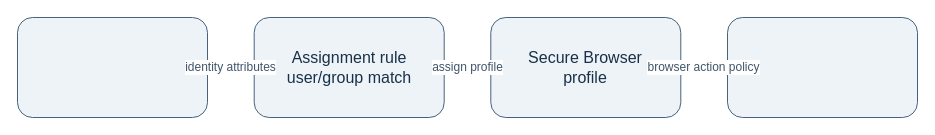
This 935x135 diagram has some shape labels left out. Each missing label, with the box of its shape:
Dynamic inspection category + URL override: (726, 16, 918, 118)
IdP claims email + group: (16, 16, 208, 118)
